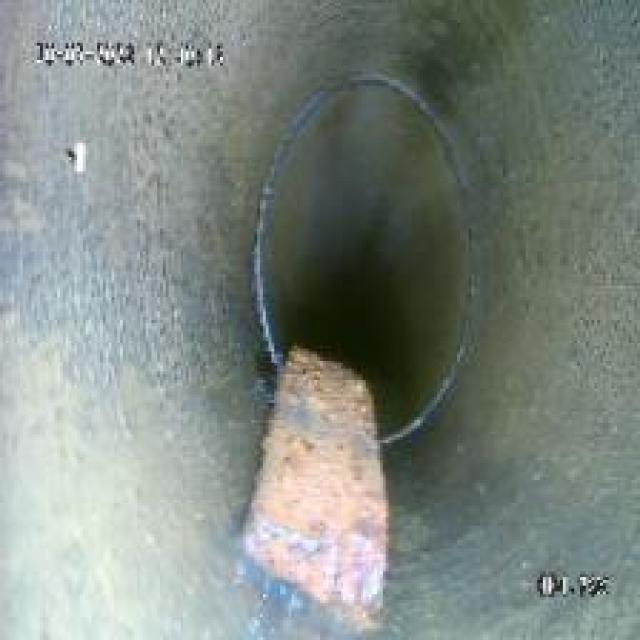stone: (246, 334, 403, 623)
